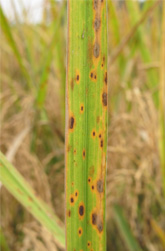Bercak Coklat: (94, 178, 104, 196), (77, 203, 87, 220), (67, 115, 76, 133), (100, 90, 108, 110), (69, 188, 79, 204), (90, 210, 98, 227), (71, 72, 83, 82), (88, 69, 98, 81), (96, 139, 106, 150), (78, 102, 87, 114), (80, 147, 88, 160), (88, 128, 98, 138), (75, 227, 85, 236), (84, 240, 94, 248), (84, 176, 95, 183), (89, 185, 97, 190)
Busuk Leher: (88, 1, 105, 30), (88, 30, 102, 61)
